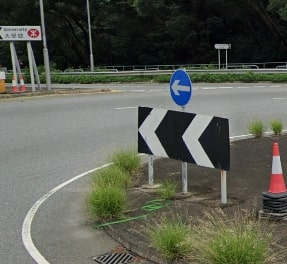Turn Left: (166, 71, 194, 104)
Turn Left(quick): (136, 106, 231, 173)
